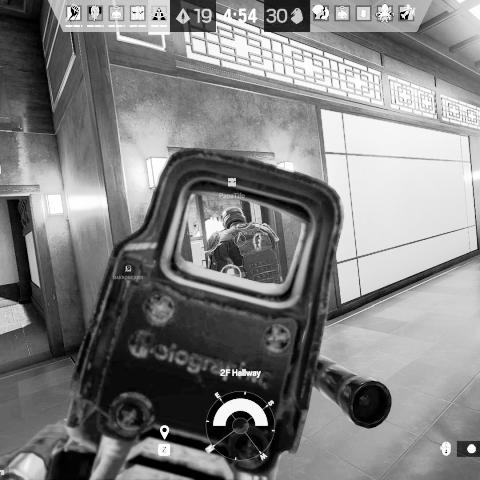Character: (202, 206, 284, 286)
Friend_label: (218, 176, 246, 200), (112, 264, 144, 281), (244, 221, 269, 236)
Head: (220, 206, 246, 228)
